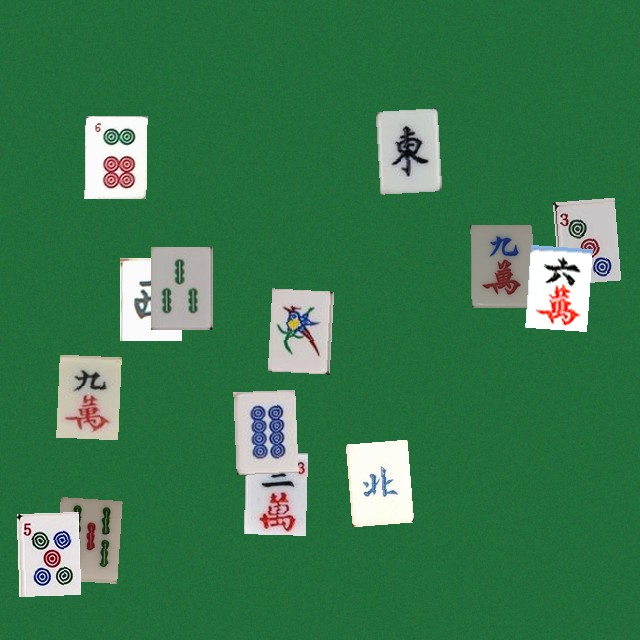tile: (119, 257, 181, 340), (552, 197, 614, 280), (345, 439, 407, 522), (267, 288, 329, 371), (375, 108, 437, 191), (56, 354, 118, 437), (243, 451, 305, 534), (150, 246, 212, 329), (84, 115, 146, 198), (233, 389, 295, 472), (470, 224, 532, 307), (55, 497, 117, 580), (16, 511, 78, 594), (525, 244, 587, 327)
